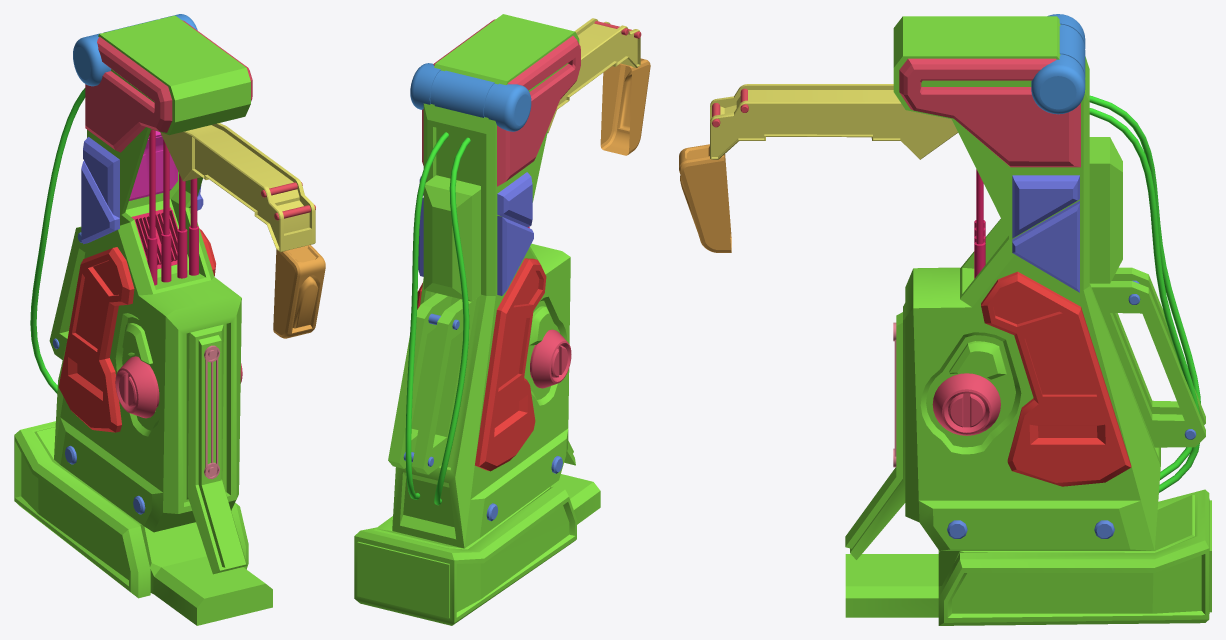
The model's file is Machine_Base.fbx.
3 views of the same model, side by side, from view 1: azimuth 30°, elevation 25°; view 2: azimuth 150°, elevation 25°; view 3: azimuth 270°, elevation 25° (orthographic). The views are drawn at different scales.
Visible parts, largest first — view 1: Cube, Cube.004, Cube.006, Cube.001, Cylinder.016, Cube.007, Cube.003, BezierCurve.001, Cylinder, Cylinder.008, Cube.009, Cylinder.004 (+3 smaller); view 2: Cube, Cube.004, Cube.001, BezierCurve.001, Cylinder.008, Cube.007, Cube.003, Cube.006, Cylinder, Cylinder.012; view 3: Cube, Cube.004, Cube.001, Cube.006, Cube.003, BezierCurve.001, Cube.007, Cylinder.008, Cylinder, Cylinder.016, Cylinder.012.
Part boxes in pixels (bbox=[...]): Cube: bbox=[14, 15, 272, 625]; Cube.004: bbox=[58, 228, 215, 432]; Cube.006: bbox=[160, 123, 315, 252]; Cube.001: bbox=[85, 20, 252, 152]; Cylinder.016: bbox=[147, 129, 198, 285]; Cube.007: bbox=[273, 245, 325, 338]; Cube.003: bbox=[81, 137, 203, 244]; BezierCurve.001: bbox=[30, 88, 85, 393]; Cylinder: bbox=[115, 356, 242, 418]; Cylinder.008: bbox=[73, 14, 197, 86]; Cube.009: bbox=[129, 131, 177, 200]; Cylinder.004: bbox=[204, 345, 220, 479]; Cube: bbox=[354, 14, 600, 625]; Cube.004: bbox=[417, 258, 546, 471]; Cube.001: bbox=[422, 19, 580, 186]; BezierCurve.001: bbox=[405, 132, 470, 505]; Cylinder.008: bbox=[410, 63, 531, 131]; Cube.007: bbox=[600, 58, 650, 155]; Cube.003: bbox=[418, 172, 533, 295]; Cube.006: bbox=[547, 18, 640, 132]; Cylinder: bbox=[530, 329, 571, 388]; Cylinder.012: bbox=[403, 313, 562, 521]; Cube: bbox=[845, 16, 1211, 625]; Cube.004: bbox=[981, 271, 1131, 486]; Cube.001: bbox=[899, 58, 1080, 167]; Cube.006: bbox=[710, 84, 957, 159]; Cube.003: bbox=[1012, 175, 1079, 292]; BezierCurve.001: bbox=[1089, 95, 1200, 492]; Cube.007: bbox=[679, 144, 731, 252]; Cylinder.008: bbox=[1031, 14, 1085, 114]; Cylinder: bbox=[932, 373, 1000, 435]; Cylinder.016: bbox=[974, 169, 985, 278]; Cylinder.012: bbox=[947, 280, 1196, 538].
Size of the model in its own units: 43.21 by 182 by 157.
